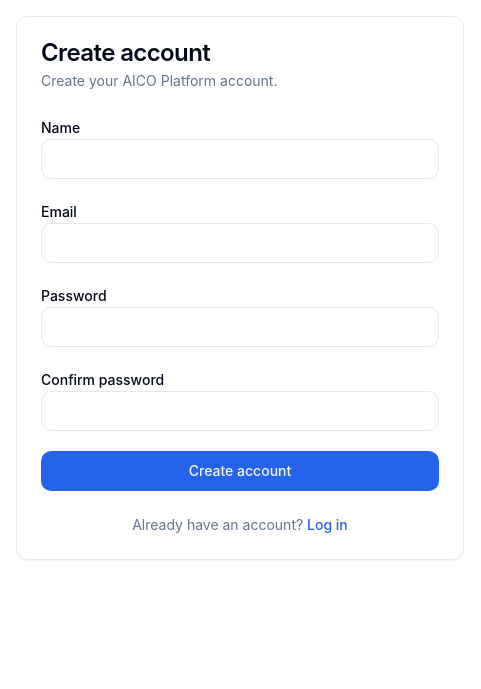
Scenario: RegisterPage › validates required fields on the client
Click the button "Create account": (240, 471) [41,451,439,491]
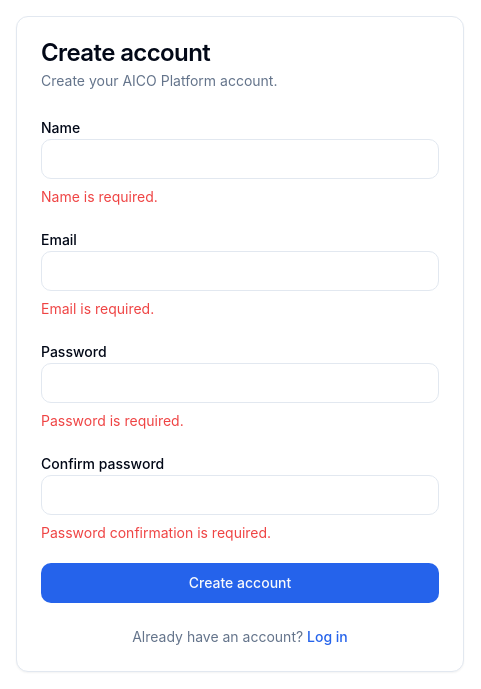
Expected: the text "Name is required." is shown, [41,188,158,205]
Expected: the text "Email is required." is shown, [41,300,154,317]
Expected: the text "Password is required." is shown, [41,412,184,429]
